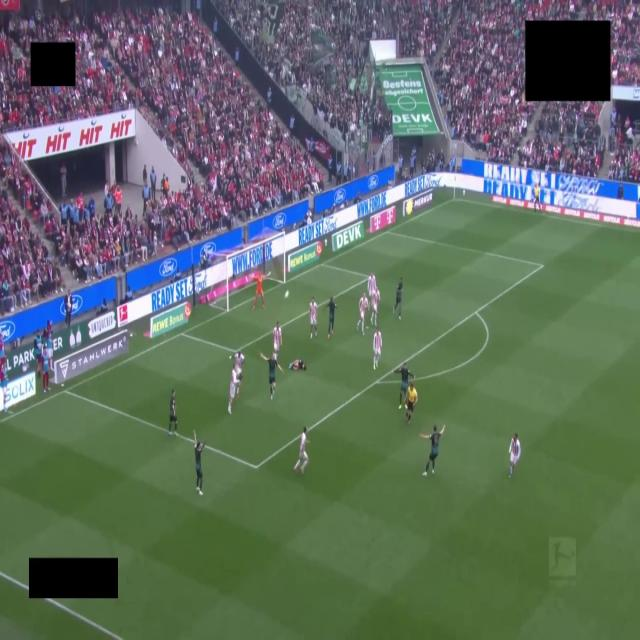ball: (284, 291, 289, 298)
player: (421, 425, 444, 476), (261, 353, 283, 399), (394, 363, 414, 409), (252, 272, 270, 311), (194, 432, 205, 495), (294, 427, 308, 473), (230, 352, 244, 396), (509, 433, 520, 478), (228, 367, 238, 414), (357, 294, 368, 335), (327, 296, 337, 339), (393, 278, 403, 319), (373, 328, 382, 369), (169, 390, 177, 435), (371, 288, 379, 326), (310, 297, 317, 338), (273, 322, 281, 356), (367, 272, 376, 298), (289, 360, 306, 370)
referee: (406, 382, 417, 424)
